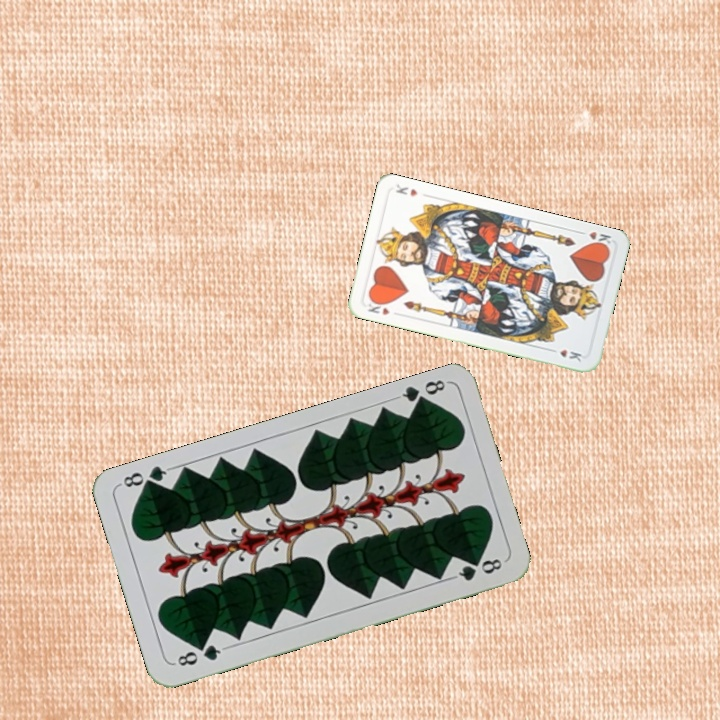G8: (392, 375, 450, 411), (170, 640, 228, 669)
HK: (574, 227, 614, 250), (364, 296, 392, 318)
